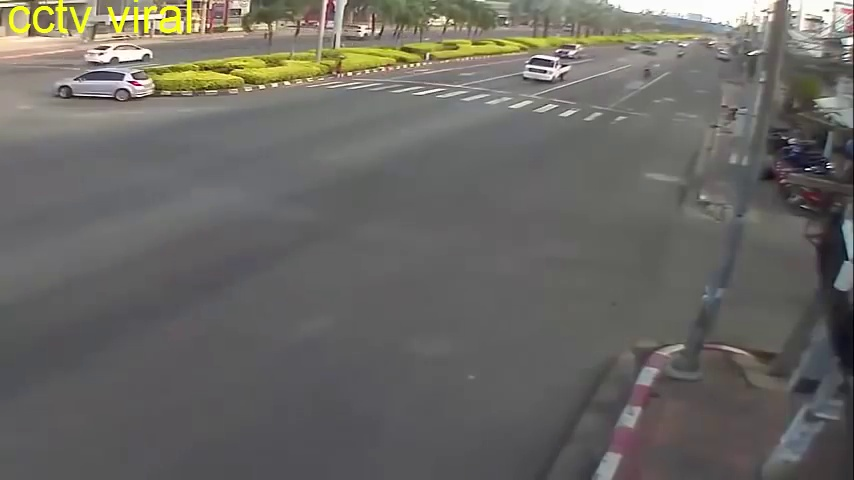car: (56, 63, 158, 103), (521, 51, 571, 84), (87, 43, 155, 66), (556, 43, 581, 61)
